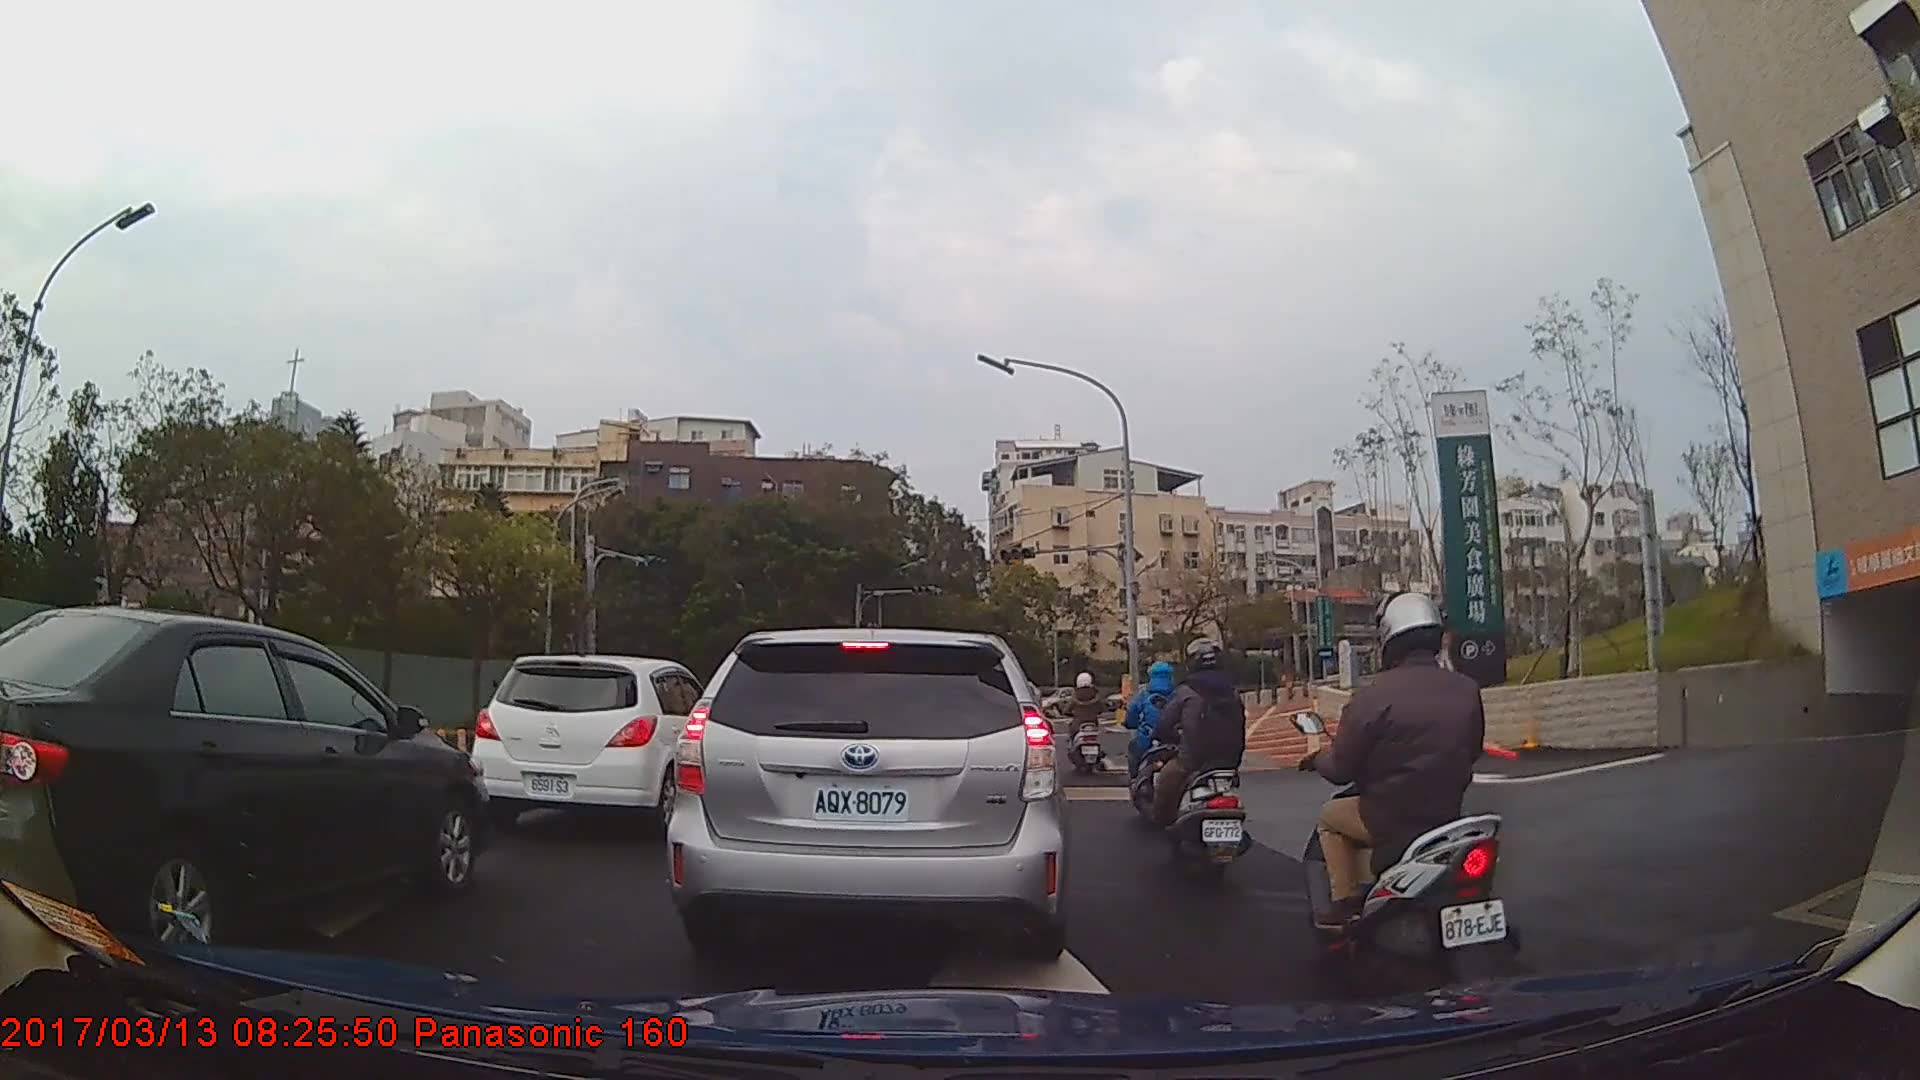rider: (1295, 589, 1522, 998), (1150, 637, 1251, 881), (1116, 661, 1178, 820), (1064, 671, 1107, 776)
vehicle: (0, 603, 486, 963), (664, 626, 1065, 956), (471, 653, 720, 825)
